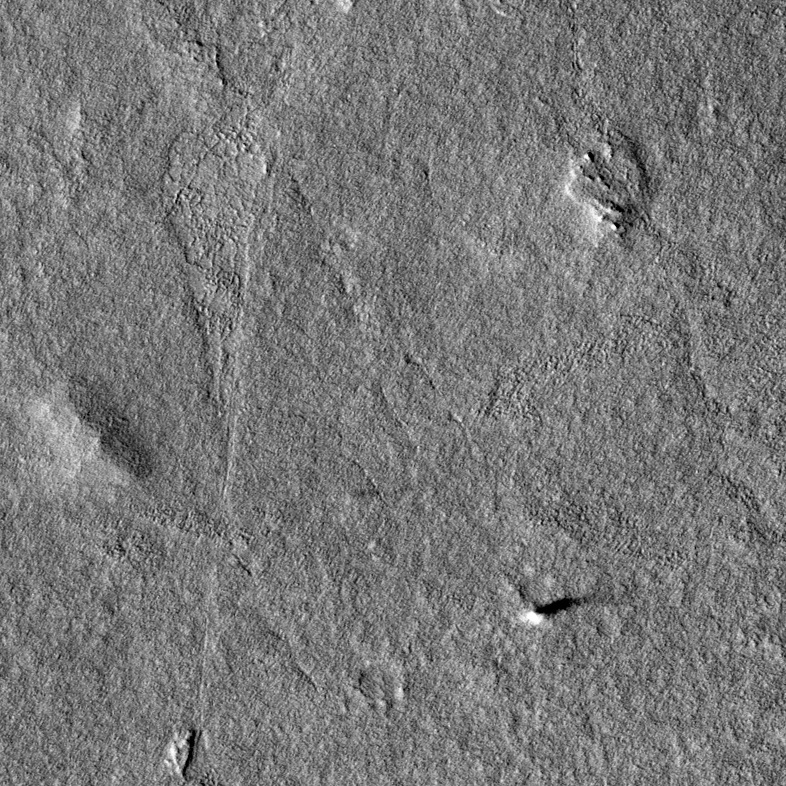dust_devil: (521, 592, 592, 627)
